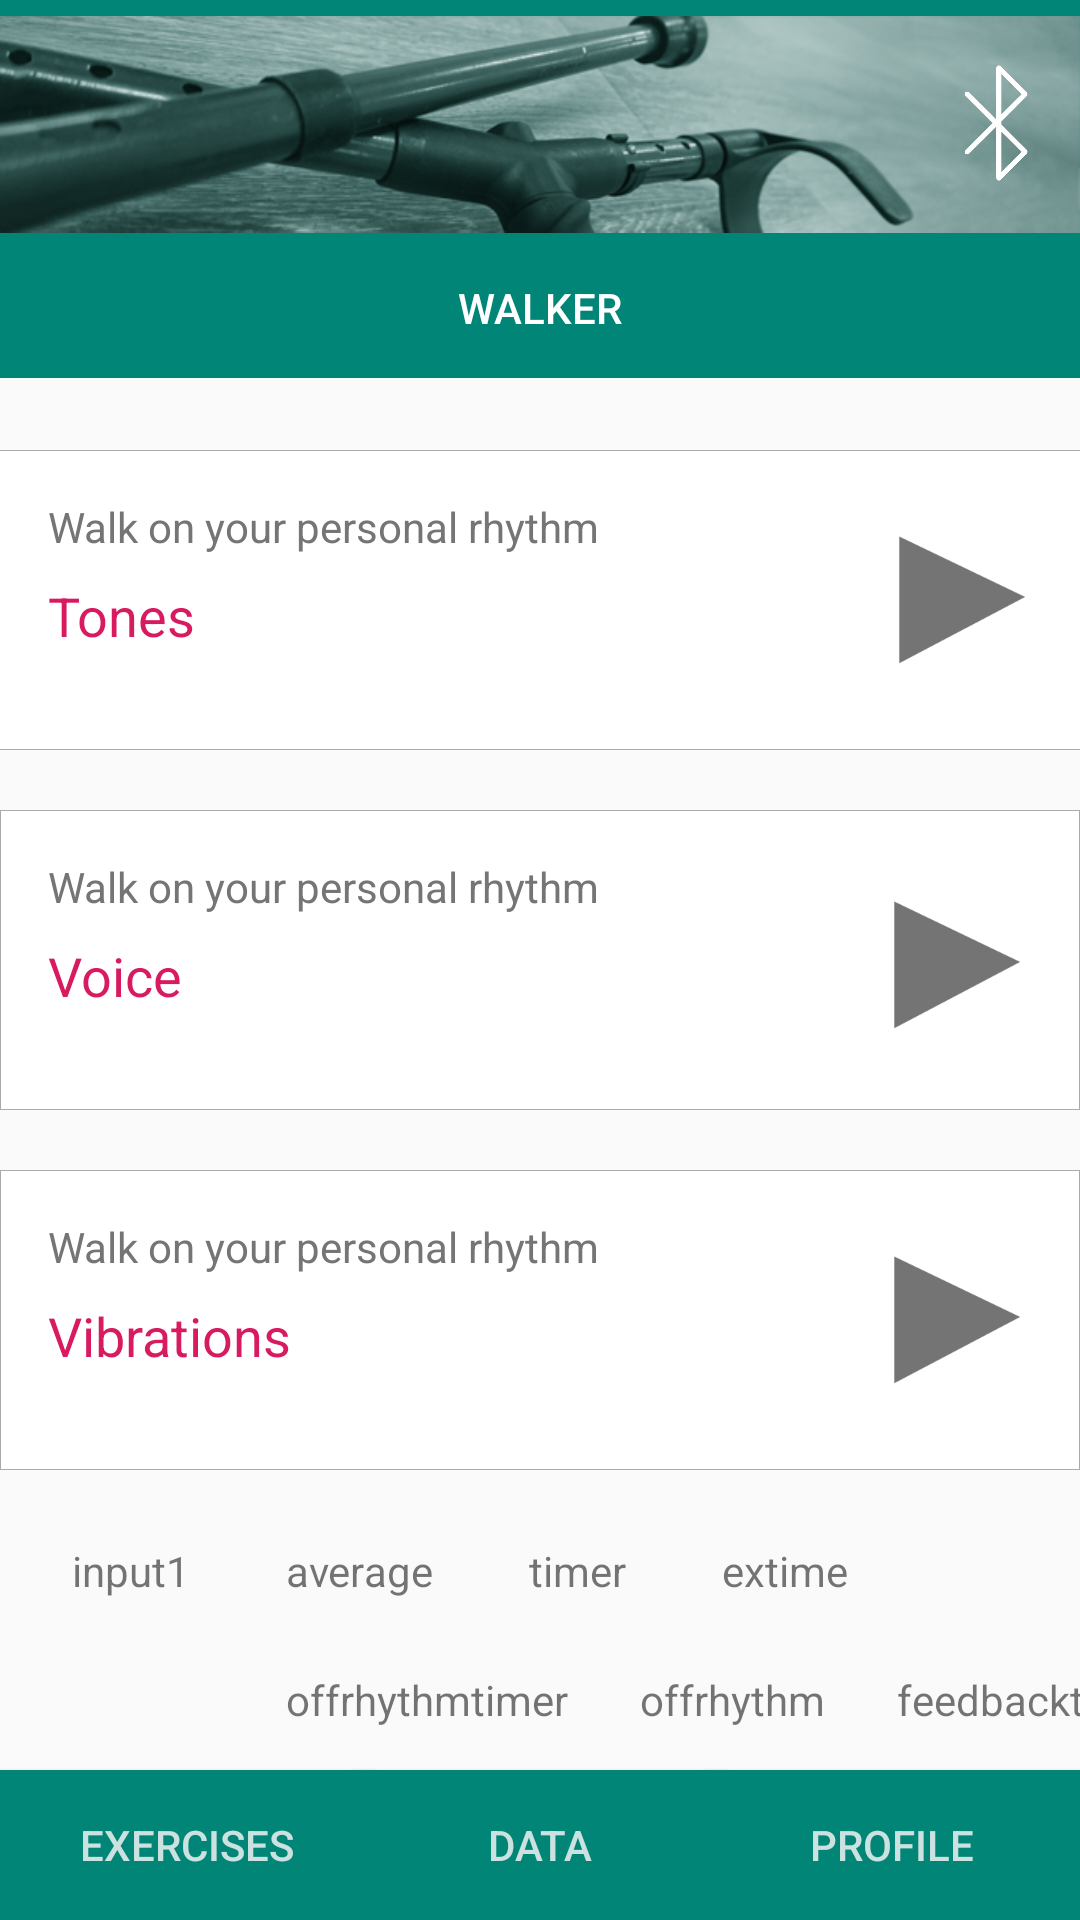

Named icons in this screenshot (1080w x 1920h) and their bounding boxes, (x1, y1, x2, y2):
toggle start stop: (899, 536, 1025, 663), (894, 901, 1020, 1028), (894, 1256, 1020, 1383)
